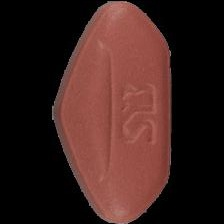54868-4221: (0, 0, 224, 224)
